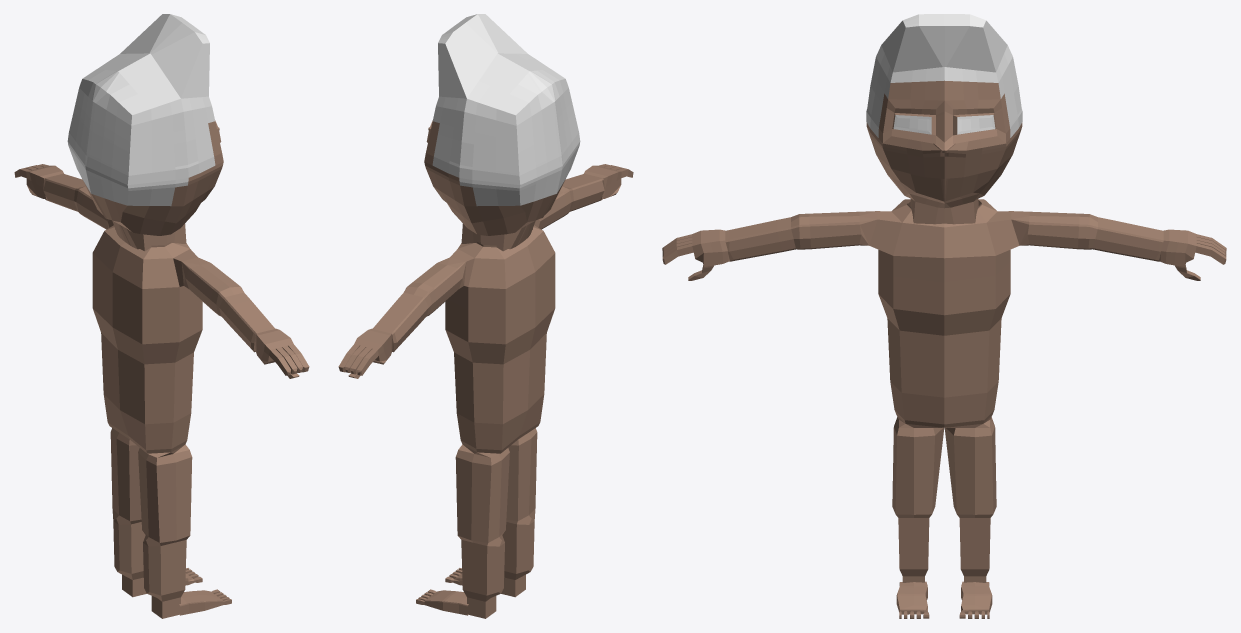
Rendered from Human.fbx.
3 renders of one model, left to right at view 1: azimuth 30°, elevation 25°; view 2: azimuth 150°, elevation 25°; view 3: azimuth 270°, elevation 25°, orthographic. The views are drawn at different scales.
Parts seen in each view (by area): view 1: Cube.001; view 2: Cube.001; view 3: Cube.001.
Part boxes in pixels (x1,y1,x2,y2): Cube.001: (14,14,309,618); Cube.001: (338,14,633,618); Cube.001: (662,14,1226,618).
Bounding box in the file's own units: 310 × 1263 × 1093.
